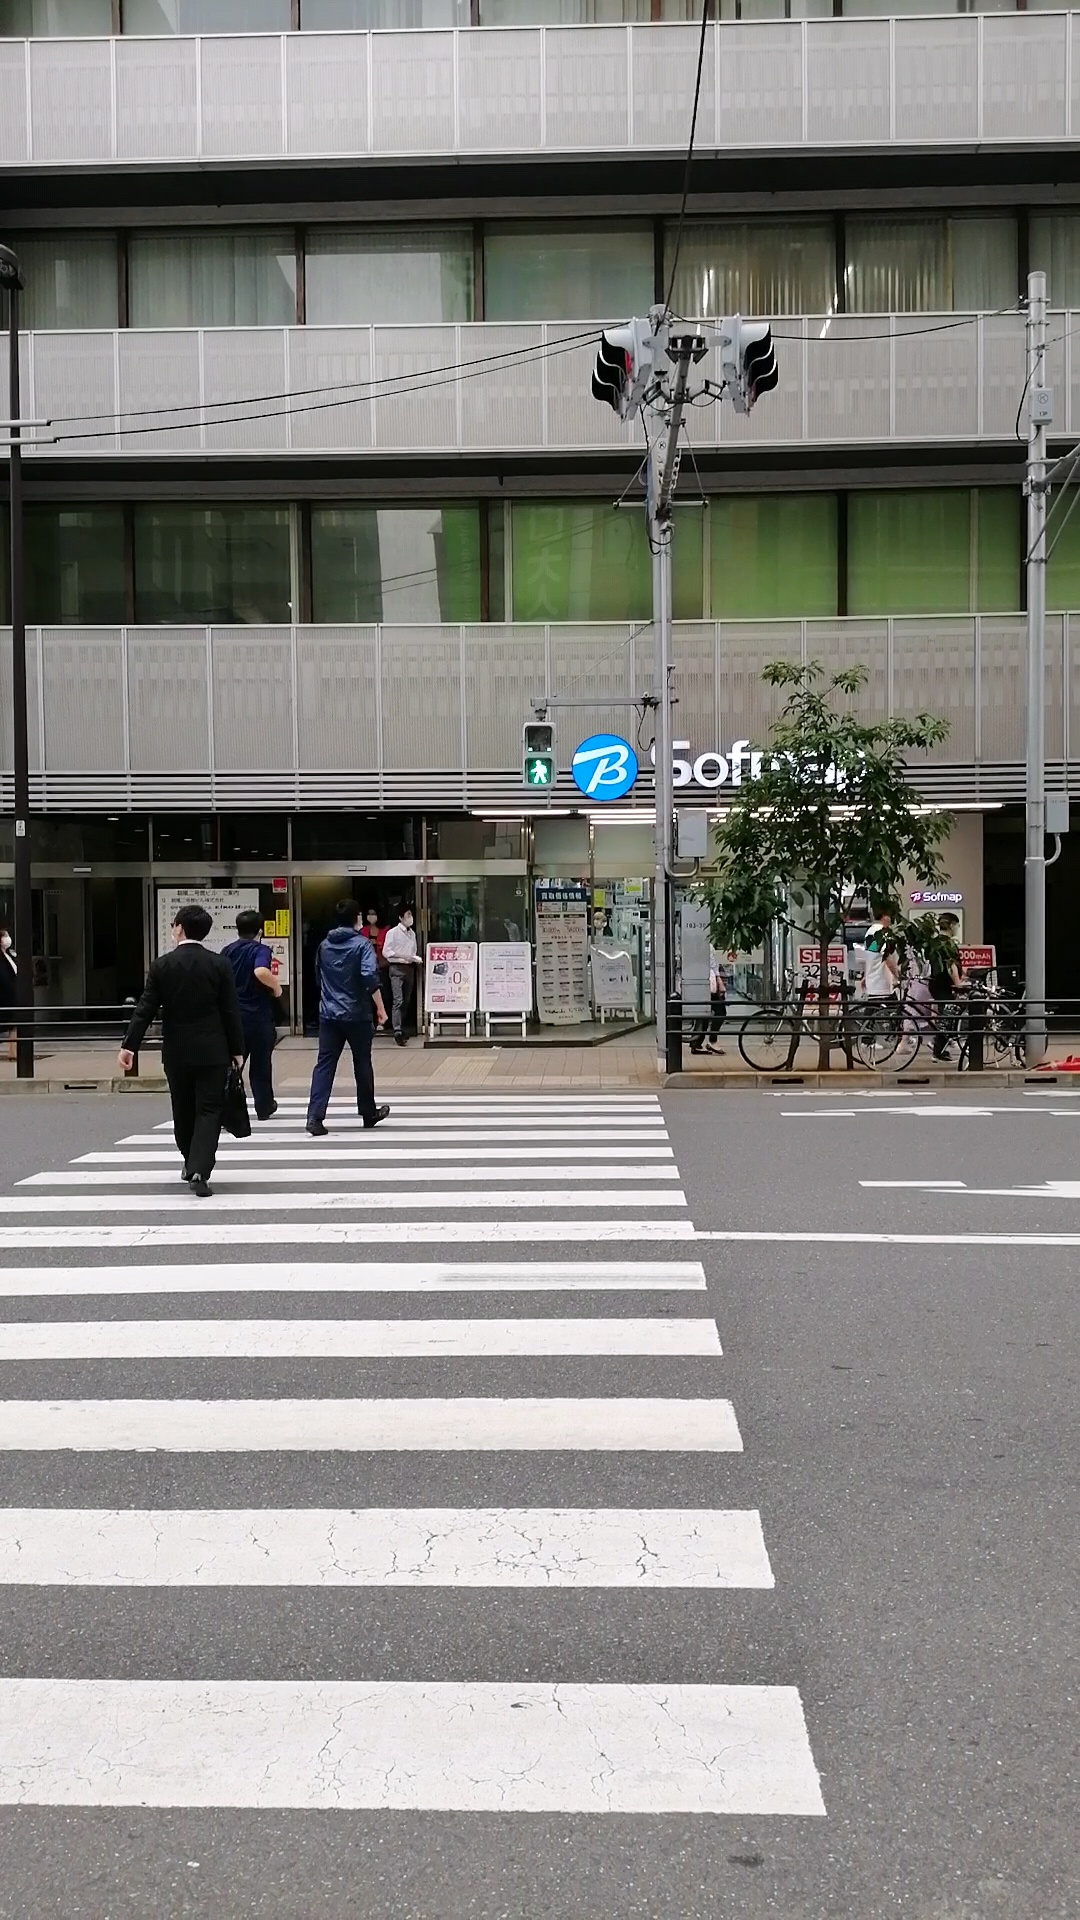green: (522, 721, 555, 787)
